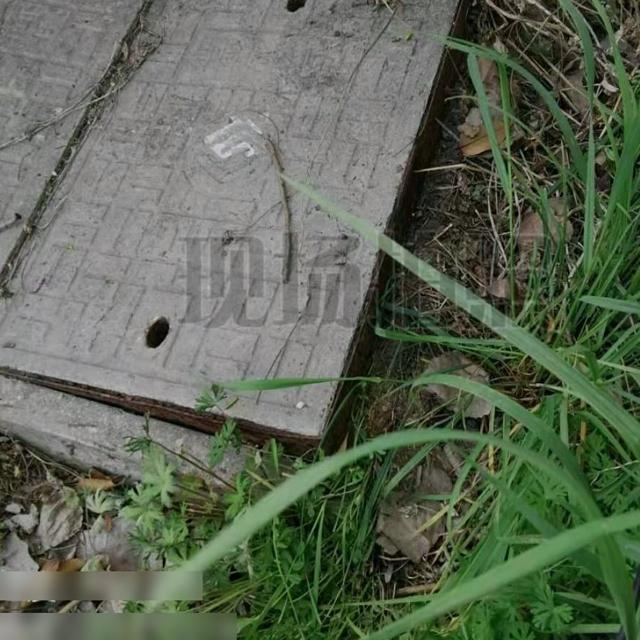uncovered: (0, 0, 486, 489)
